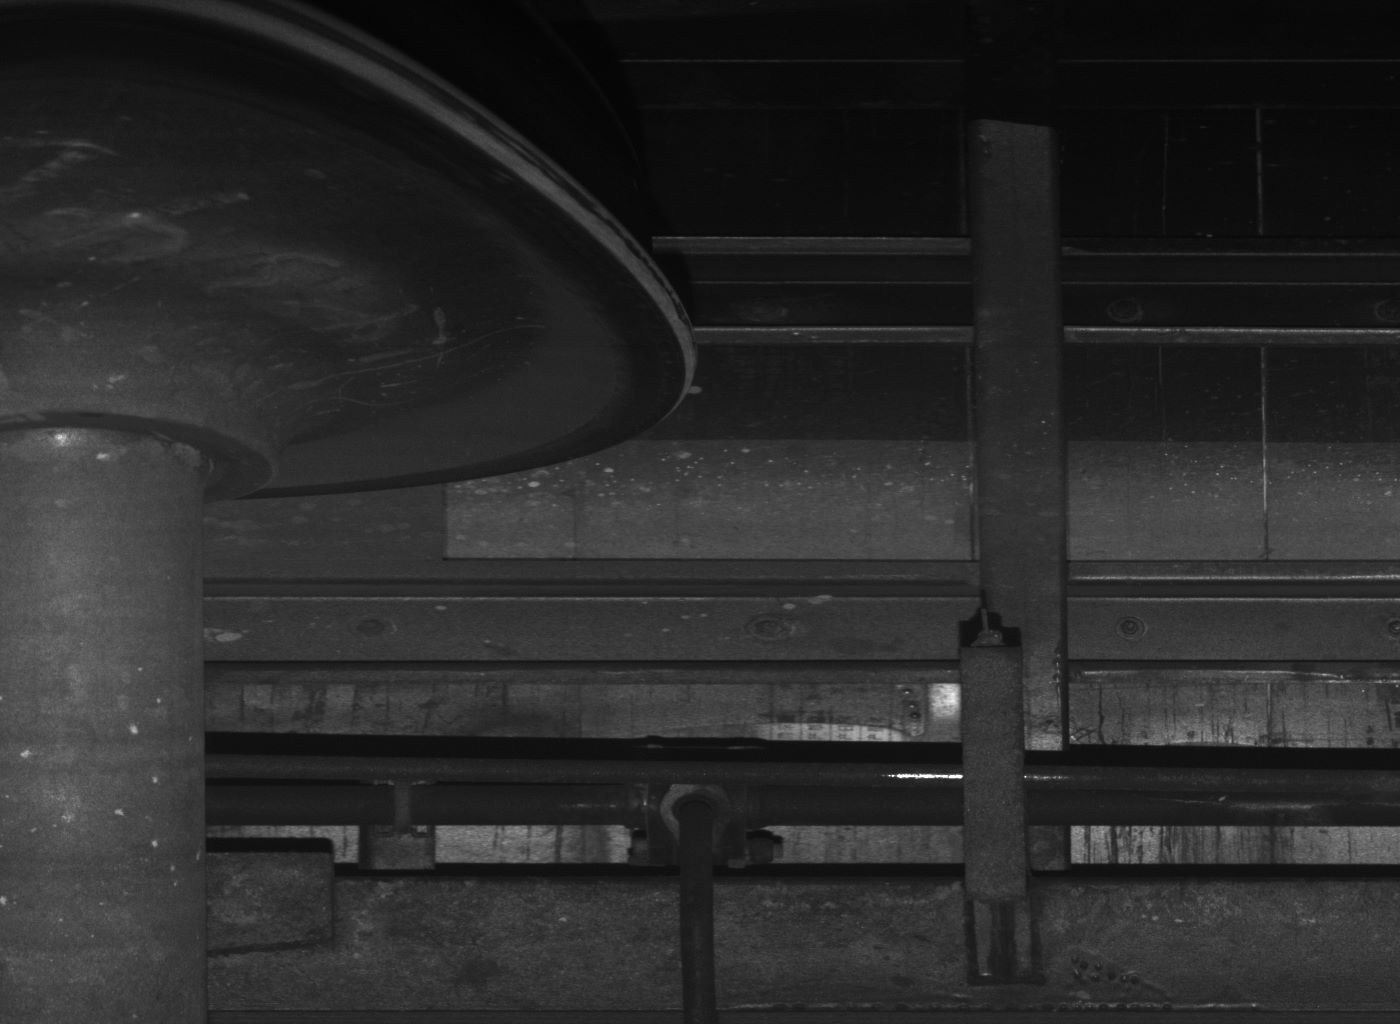normal: (963, 605, 1037, 981)
